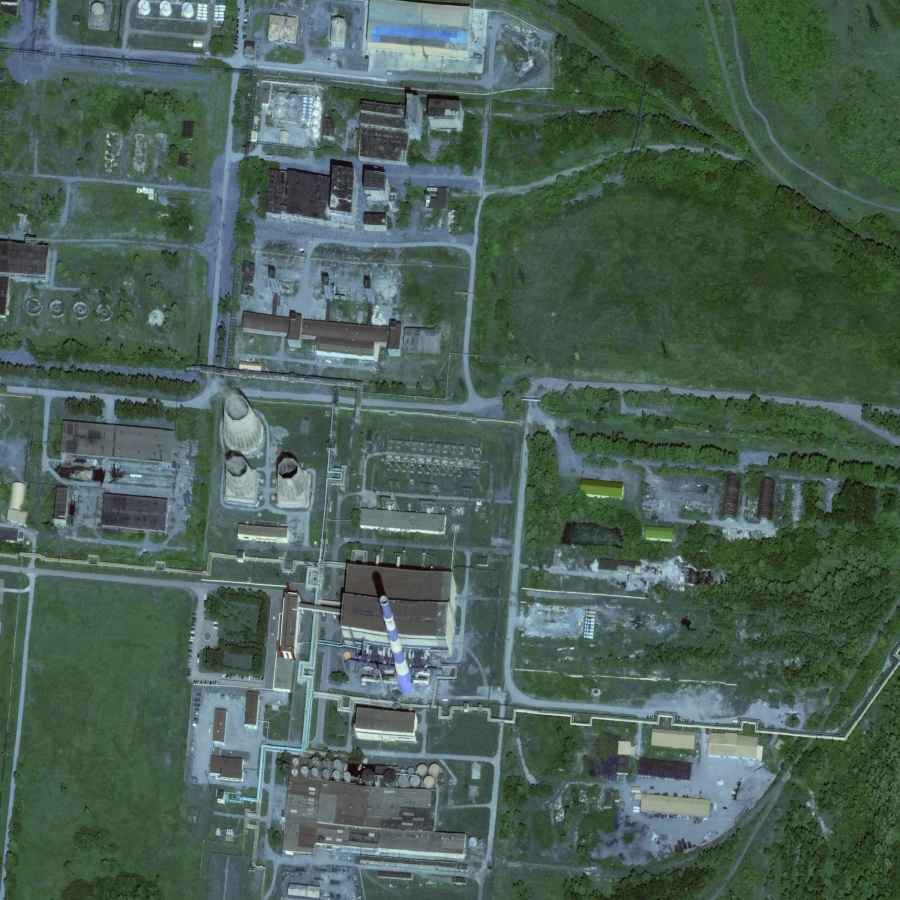PowerPlant: (194, 384, 487, 743)
